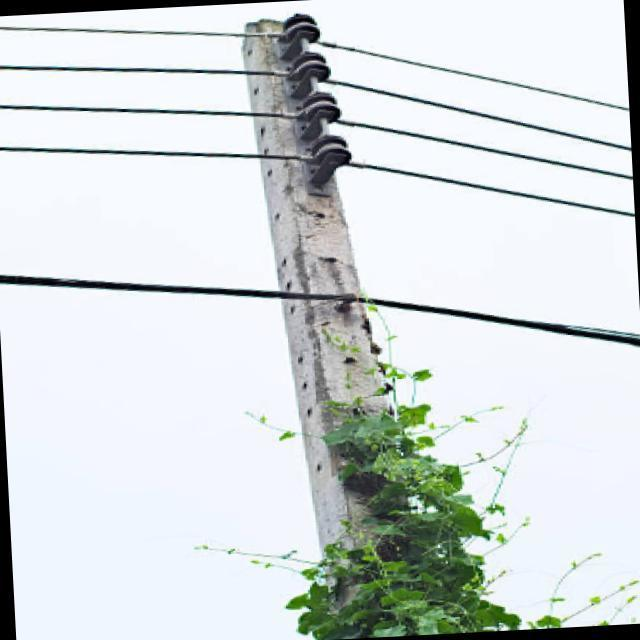light_pole: (204, 0, 489, 632), (248, 311, 542, 638)
